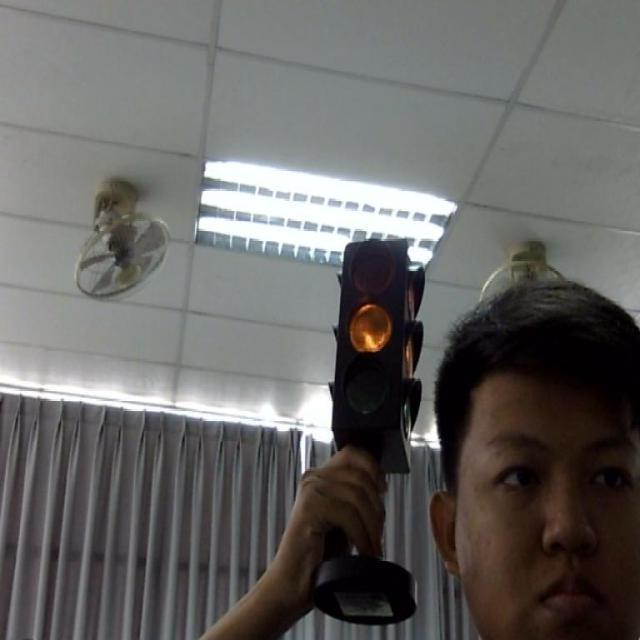yellow_light: (328, 237, 423, 446)
